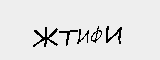Ж: (30, 25, 58, 50)
И: (103, 24, 125, 49), (76, 26, 90, 49)
Т: (57, 27, 79, 51)
Ф: (90, 26, 103, 48)
